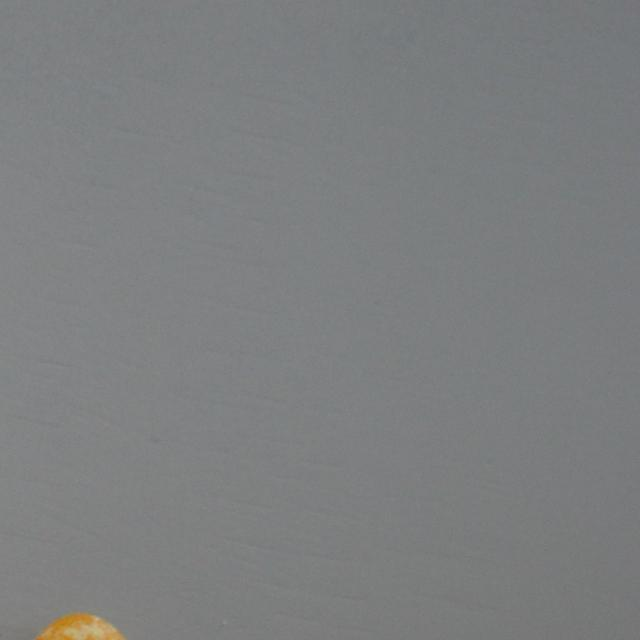pelicula: (20, 609, 134, 640)
